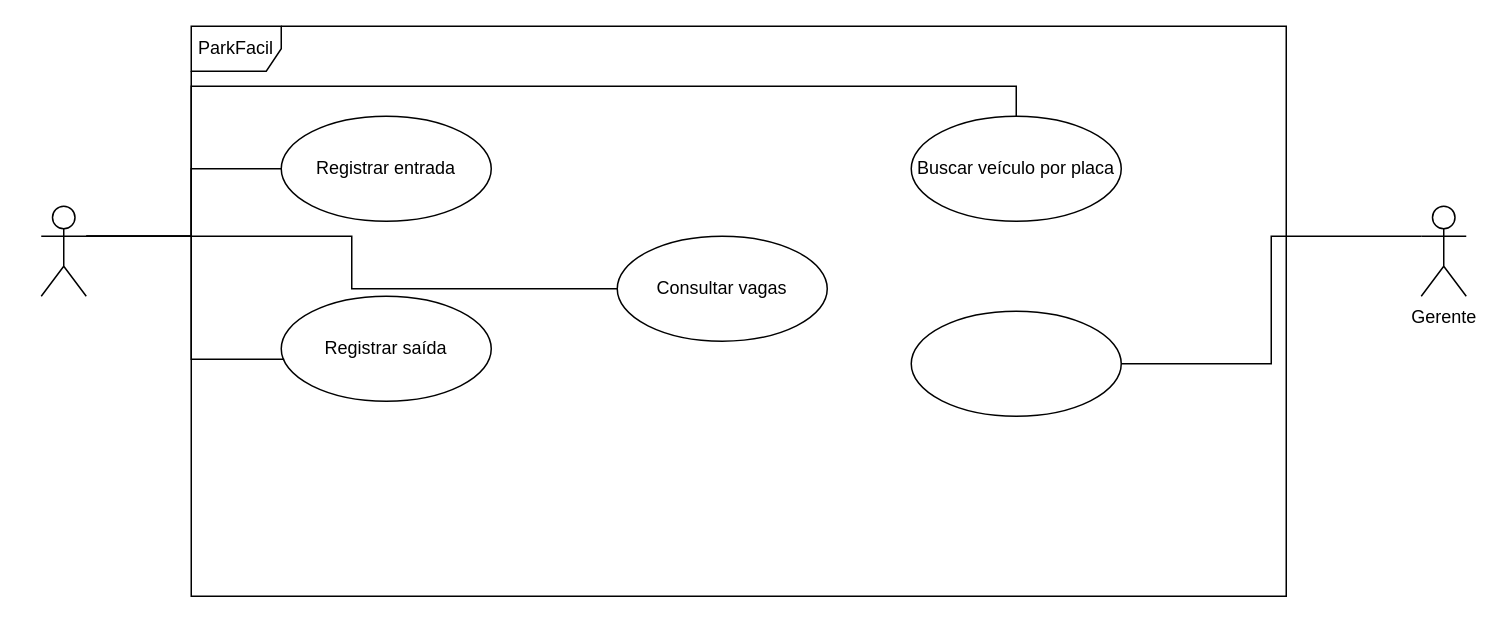
The diagram is 1502 pixels wide and 623 high, and some of its shapes have lost their labels. The shapes that lost their labels are listed below. From the top down, each one's centre as x and y in pixels, then its label:
At [63,250]: "Operador".
At [1015,363]: "Listar movimentações".
